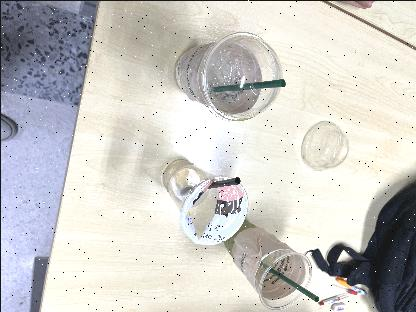Others: (171, 34, 283, 120), (212, 216, 312, 308), (157, 155, 247, 242), (204, 34, 284, 118), (257, 260, 320, 302), (300, 120, 346, 171), (212, 77, 286, 92), (182, 176, 241, 192)
